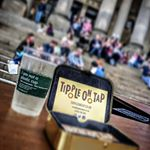cups: (8, 51, 59, 119)
